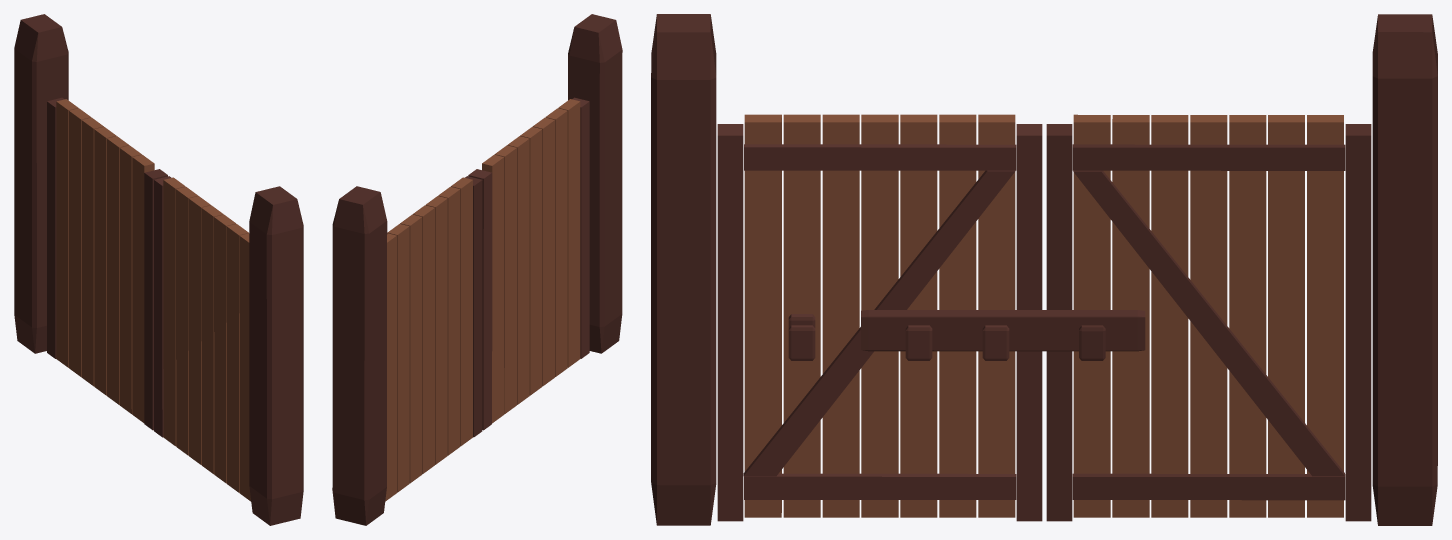
Rendered from gate_with_balk.fbx.
3 renders of one model, left to right at view 1: azimuth 30°, elevation 25°; view 2: azimuth 150°, elevation 25°; view 3: azimuth 270°, elevation 25°, orthographic. The views are drawn at different scales.
Parts seen in each view (by area): view 1: gate right, gate left, stand left, stand right; view 2: gate left, gate right, stand right, stand left; view 3: gate right, gate left, stand right, stand left, balk.
Part boxes in pixels (box(x1,y1,x2,y2)): gate right: box(47, 97, 167, 430); gate left: box(154, 176, 251, 501); stand left: box(249, 186, 303, 525); stand right: box(14, 14, 68, 353); gate left: box(468, 97, 589, 430); gate right: box(385, 176, 482, 501); stand right: box(332, 186, 387, 525); stand left: box(568, 14, 622, 353); gate right: box(1046, 114, 1371, 521); gate left: box(717, 114, 1042, 521); stand right: box(1372, 14, 1437, 525); stand left: box(651, 14, 716, 525); balk: box(861, 310, 1145, 351).
Bounding box in the file's own units: 42.73 × 311 × 452.
